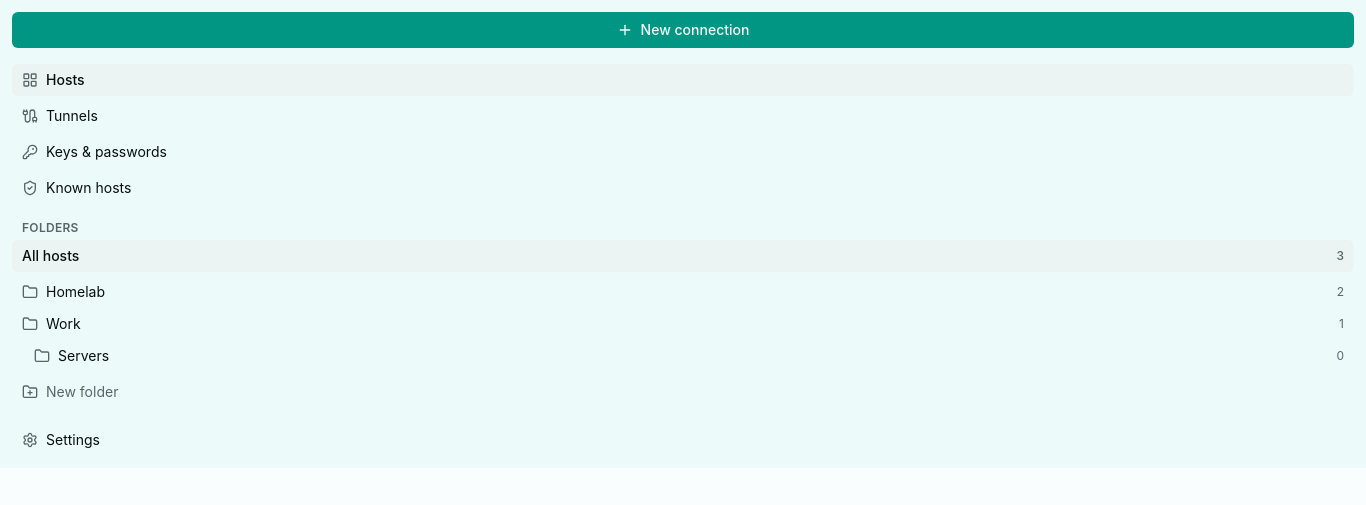
Test case: a refused folder move shows the reason
Step 1. Press the mouse on the button "Work 1" → x=63, y=324, box [12,308,1354,340]
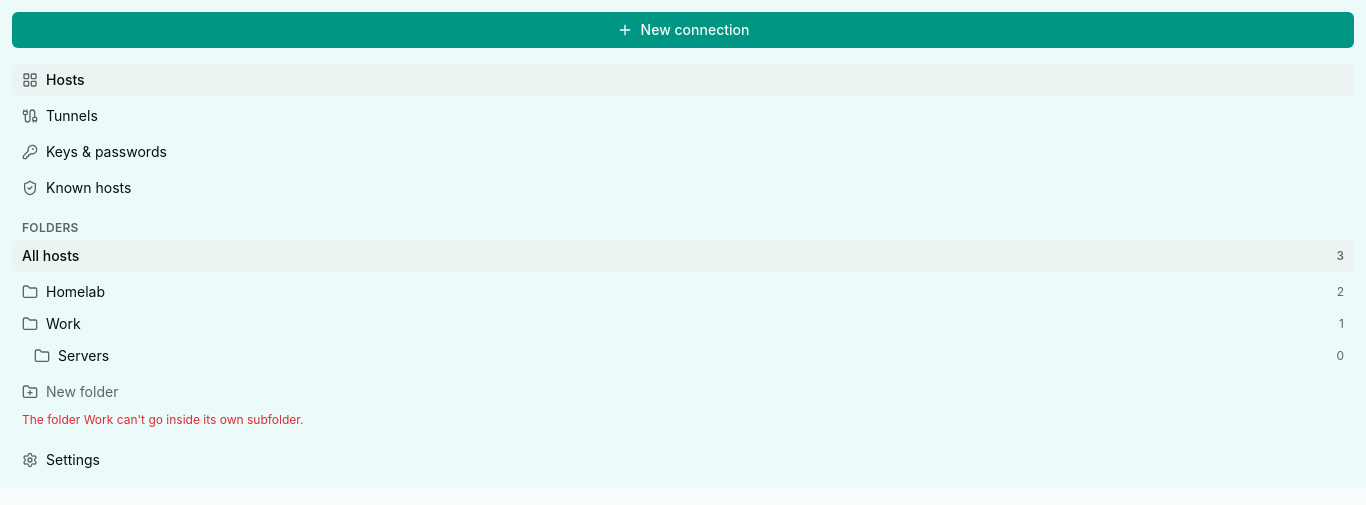
Result: the message reads "The folder Work can't go inside its own subfolder." at [22,412,304,427]
